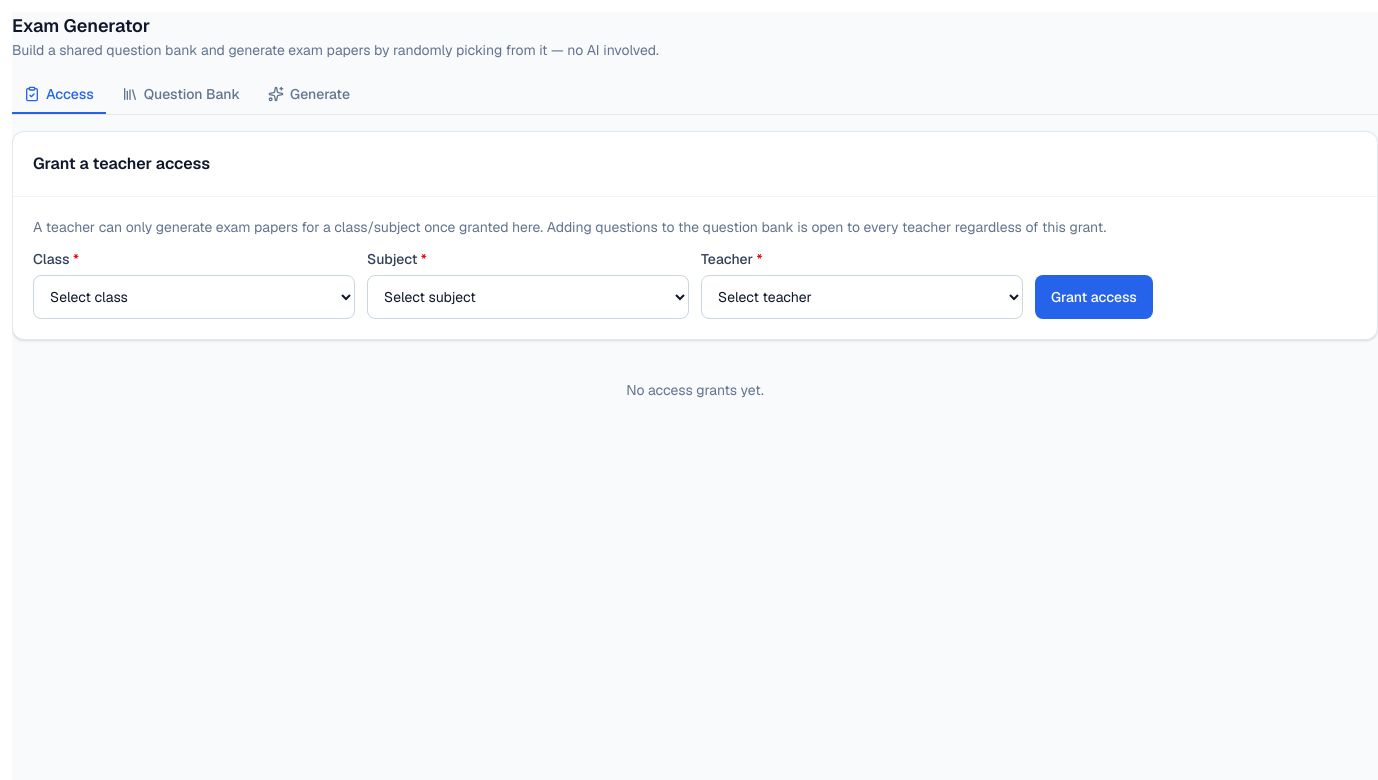
ExamGeneratorPage › Generate tab › renders the chapters-summary checklist with per-type counts
Step 1. Click the button "Generate" → (309, 95), box top-left (256, 76), bottom-right (362, 114)
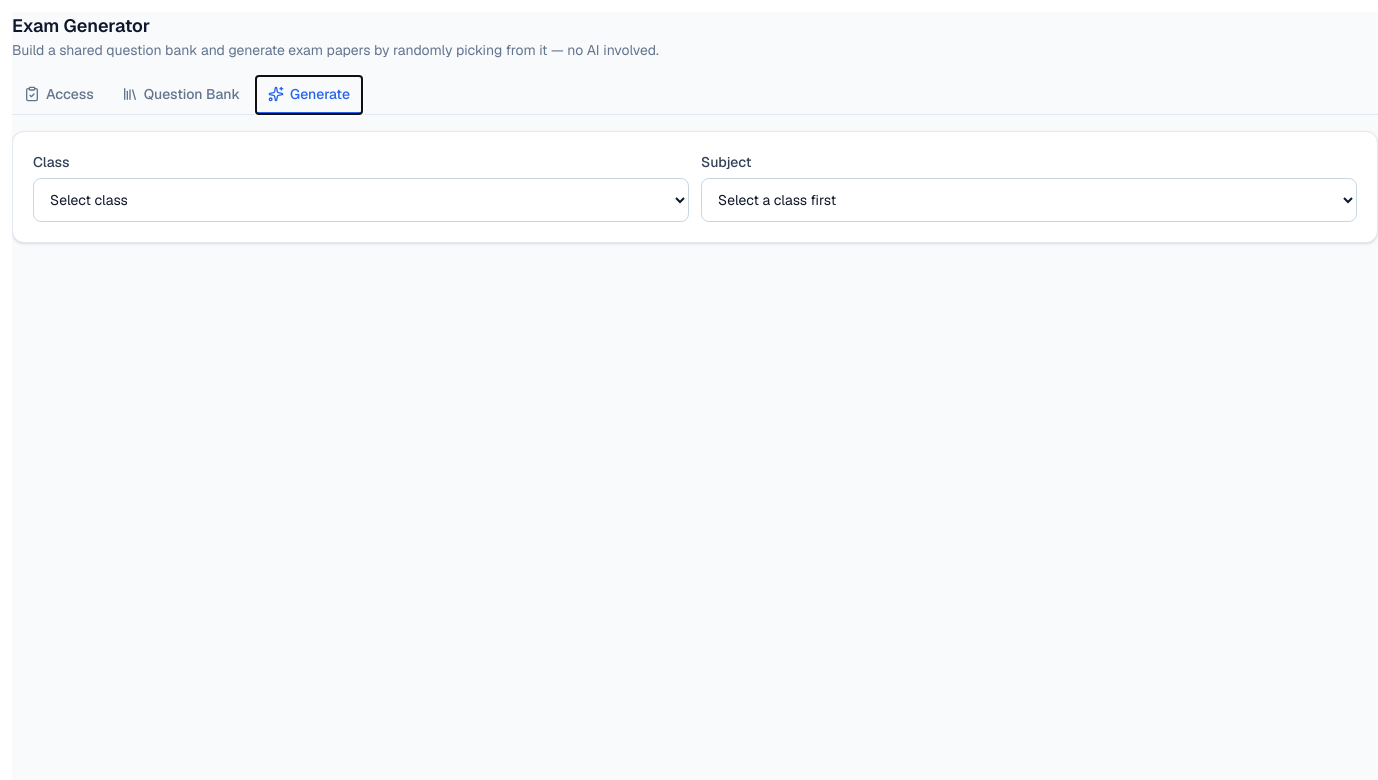
Step 2. Select "Class 5" in the dropdown labelled "Class" → (361, 200), box top-left (33, 178), bottom-right (689, 222)
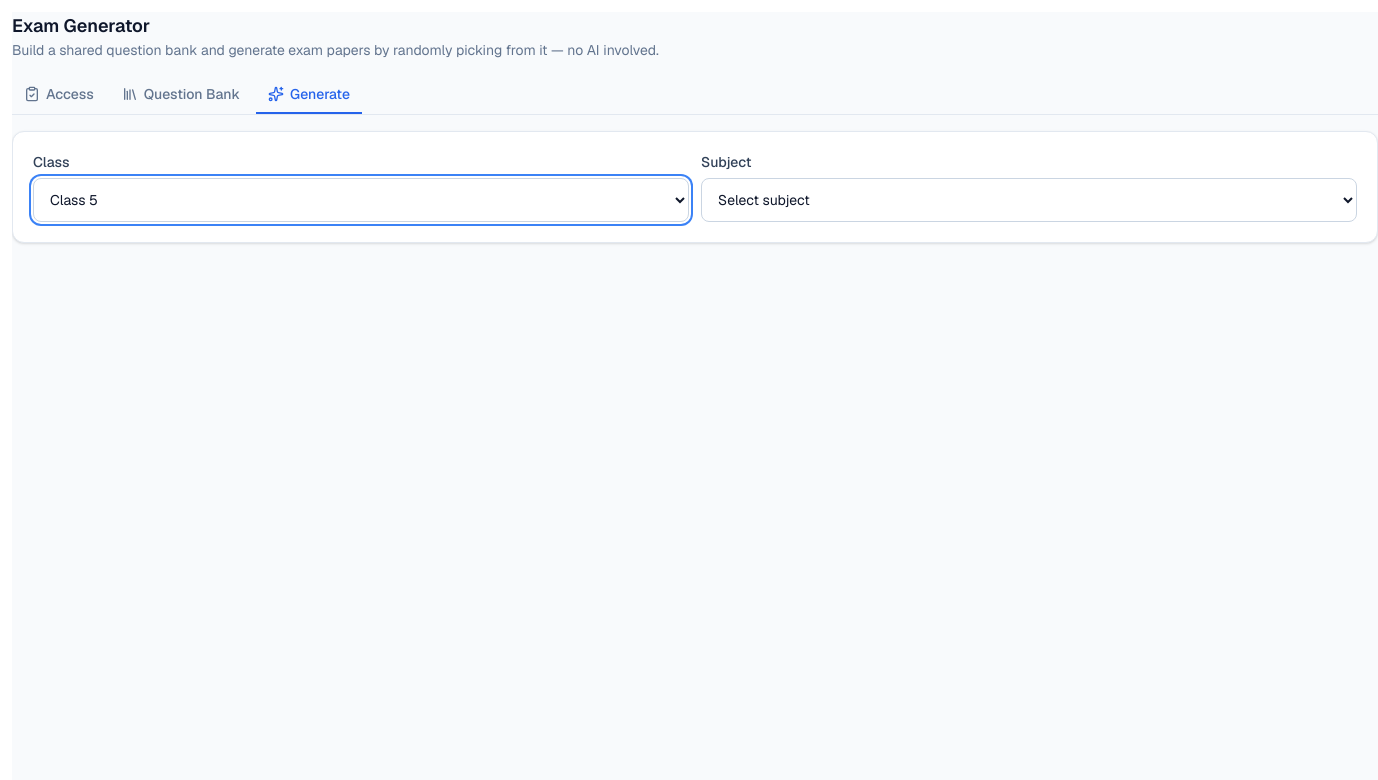
Step 3. Select "Mathematics" in the dropdown labelled "Subject" → (1029, 200), box top-left (701, 178), bottom-right (1357, 222)
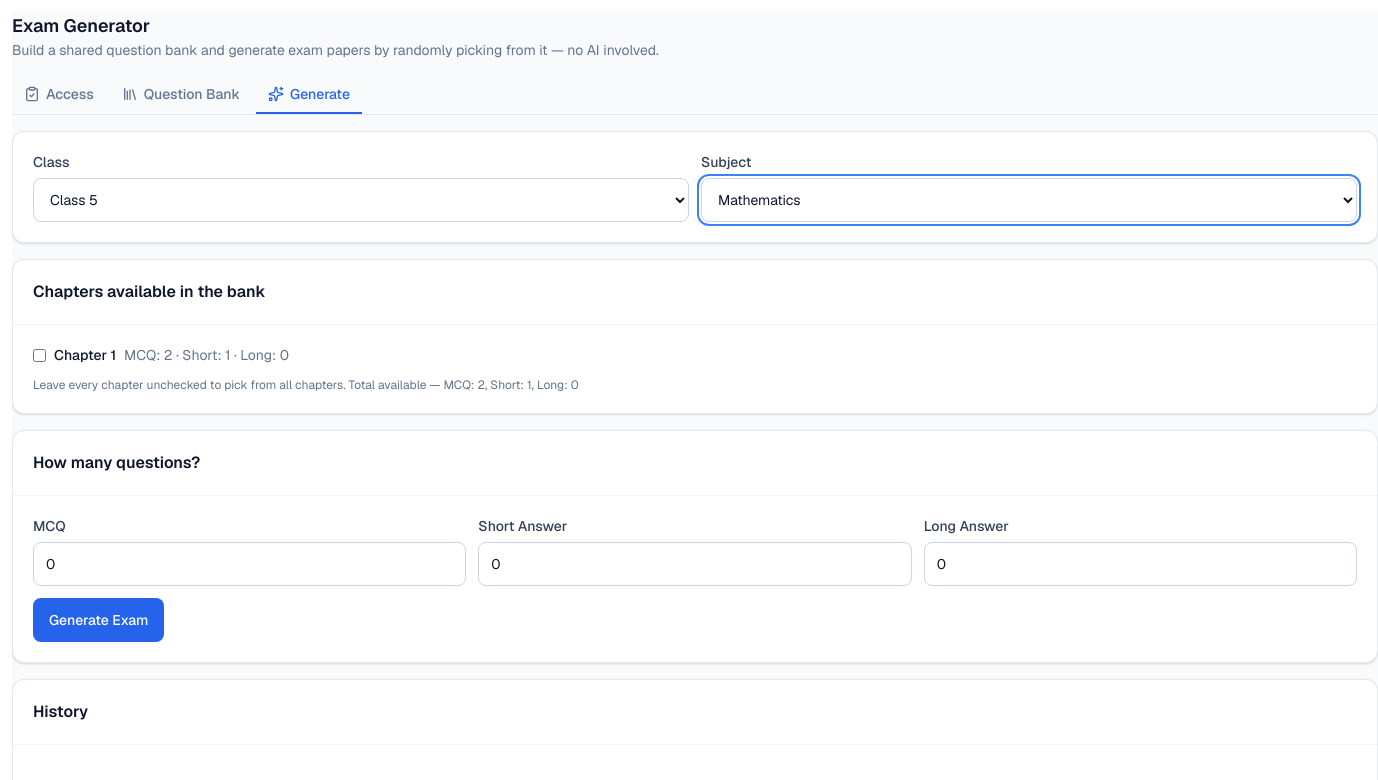
Check: the text "MCQ: 2 · Short: 1 · Long: 0" is shown, box top-left (124, 345), bottom-right (289, 365)
